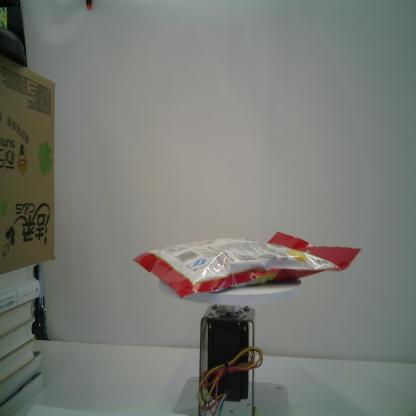Instant Drink: (132, 229, 361, 297)
